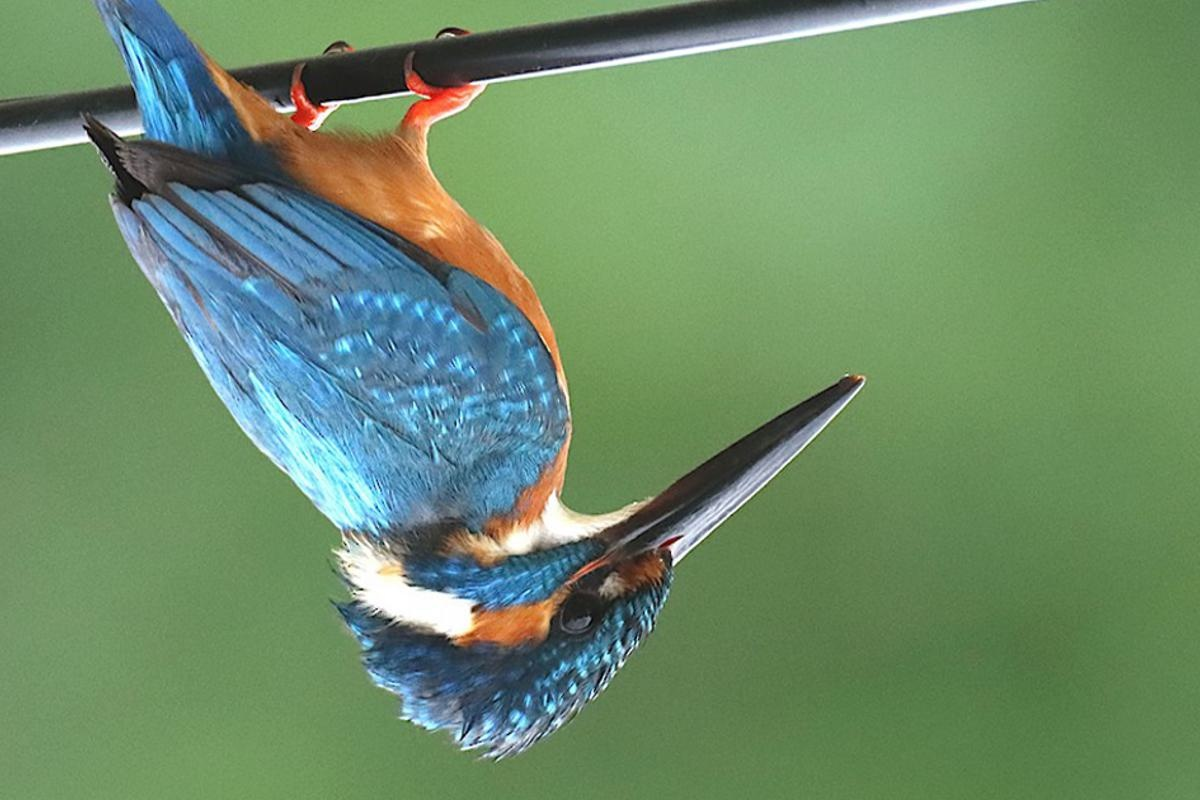kingfisher: (70, 7, 872, 755)
